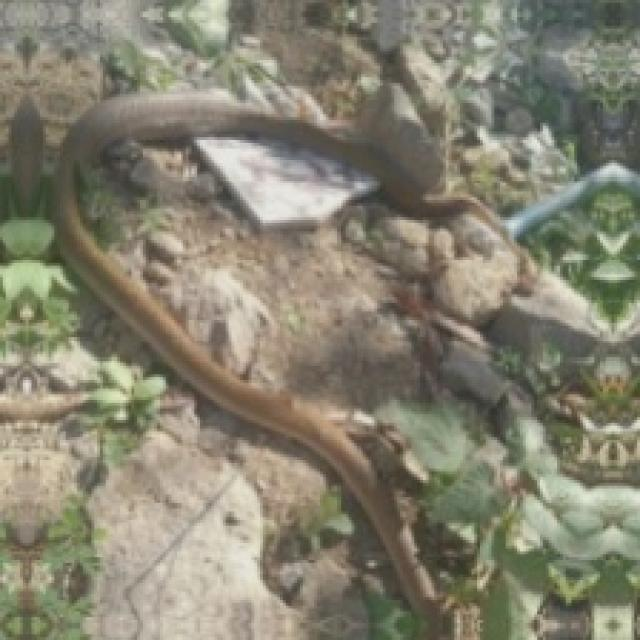philippine cobra: (54, 94, 471, 637), (54, 94, 443, 637)
